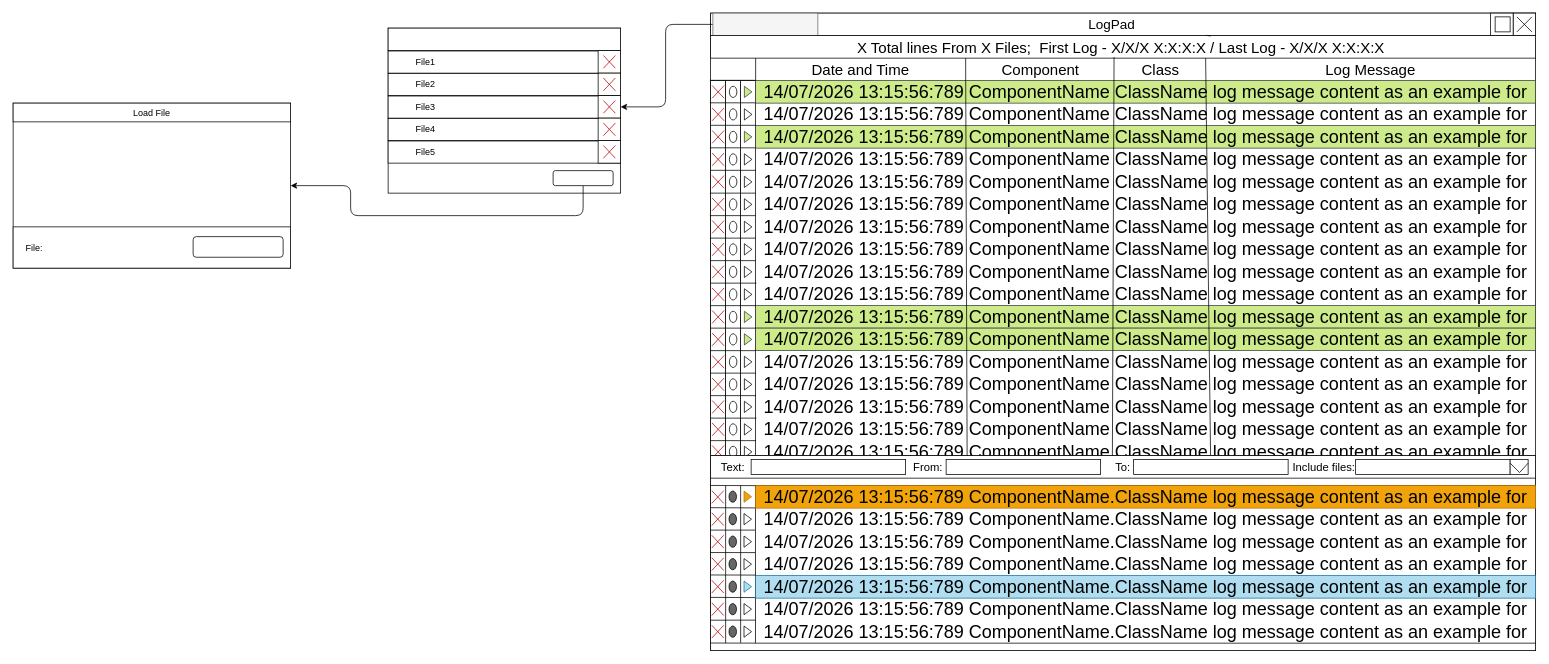
Some shapes in this 1549 by 664 pixel diagram are drawn without their labels. Here are the shapes that lost their labels. From the top down, the centre of each, then its label:
At point 504,39: "Loaded Files".
At point 765,24: "Add/Remove File".
At point 582,178: "Add File".
At point 237,246: "Select".
